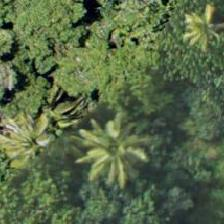Kelapa_Sawit: (69, 103, 159, 193), (0, 104, 79, 194), (162, 0, 224, 81)
